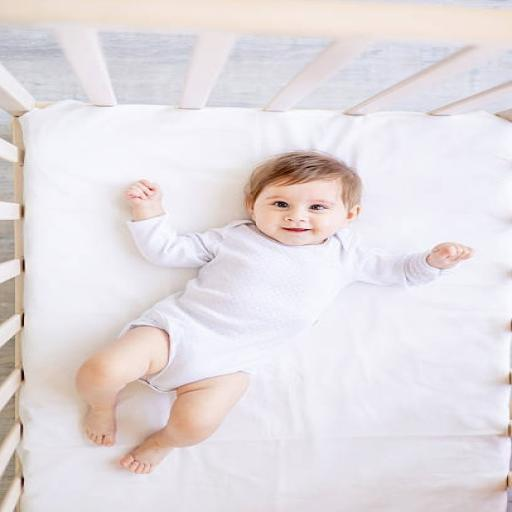baby: (77, 152, 472, 473)
crib: (0, 0, 511, 511)
